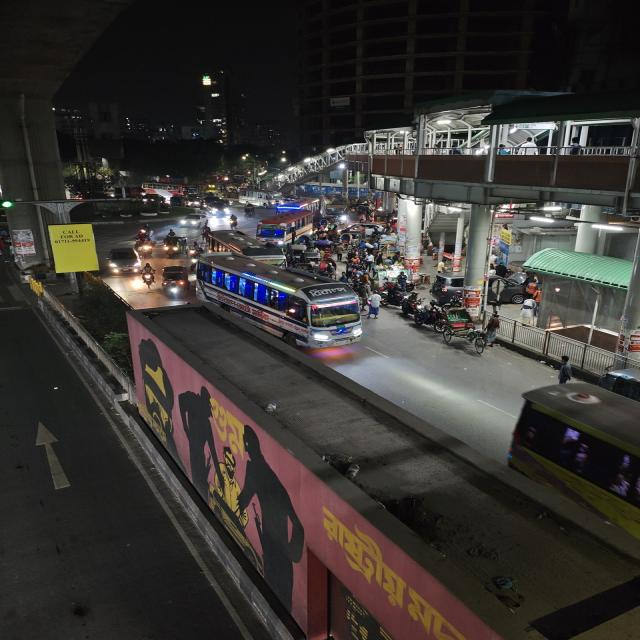bus: (506, 381, 640, 582), (191, 254, 366, 351), (255, 211, 318, 246), (237, 190, 279, 207), (142, 182, 192, 196)
car: (107, 246, 142, 276), (180, 213, 209, 229), (209, 202, 230, 216)
cng: (158, 264, 188, 300), (162, 231, 184, 257)
motorcycle: (139, 262, 157, 290), (136, 236, 157, 258), (135, 223, 156, 242), (186, 240, 202, 260), (228, 214, 240, 230)
pedestrian: (555, 354, 574, 386)
rickshaw: (437, 308, 492, 358), (239, 204, 258, 220)
